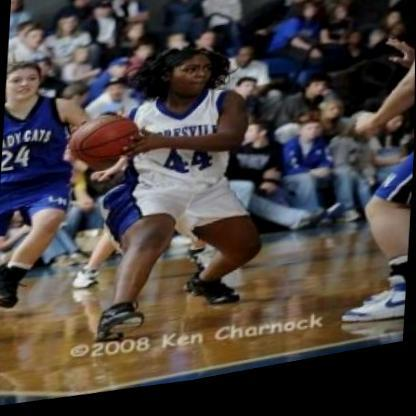basketball: (64, 106, 145, 180)
